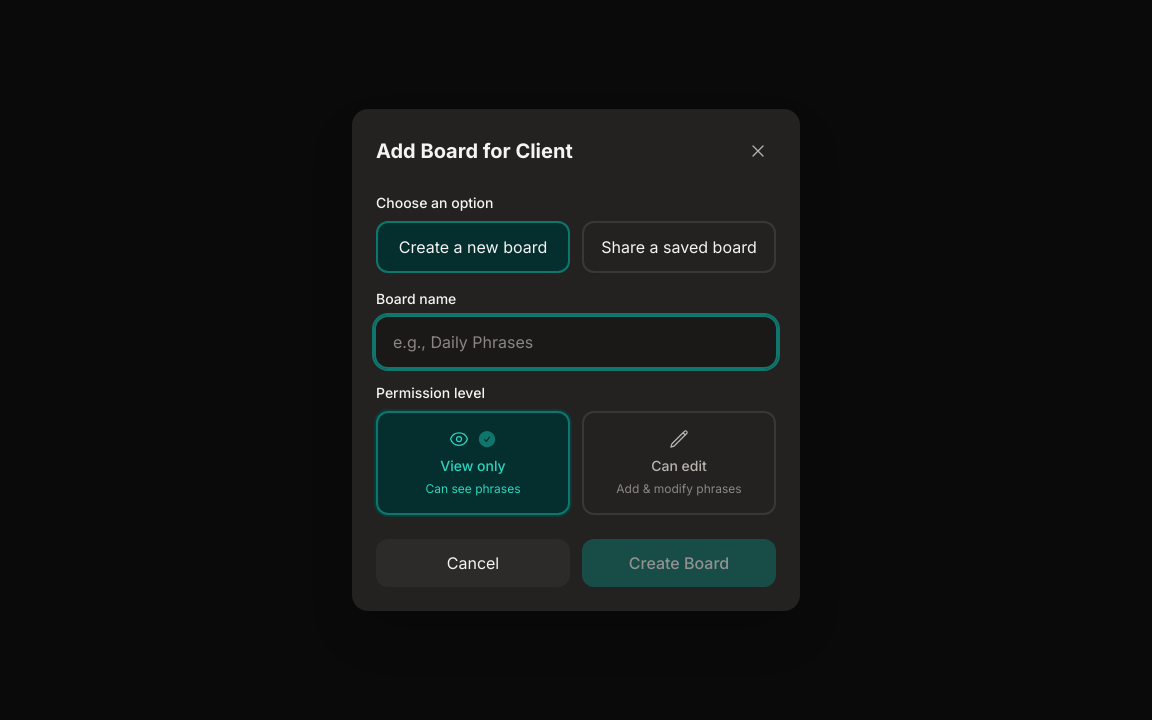
Test: CreateBoardModal › enables submit when board name is entered
This screenshot has width=1152, height=720.
Type "Test Board" into the field labelled "Board name".
click(576, 342); type("Test Board")  # box [376,317,776,367]
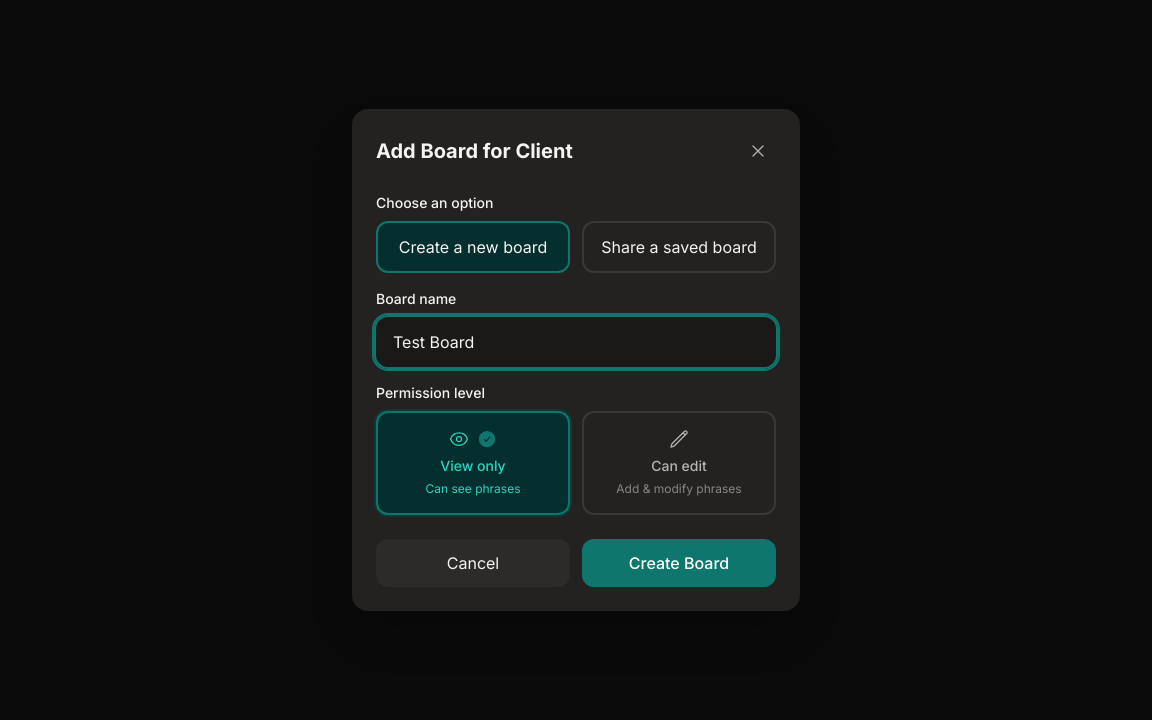
Expected: the button "Create Board" is enabled, [582,539,776,587]
